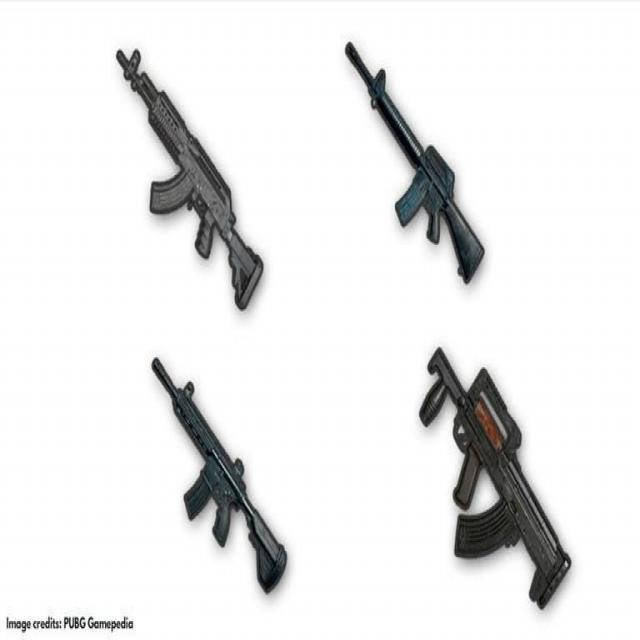rifle: (103, 345, 292, 608), (104, 34, 277, 318), (411, 335, 581, 612), (340, 30, 494, 299)
